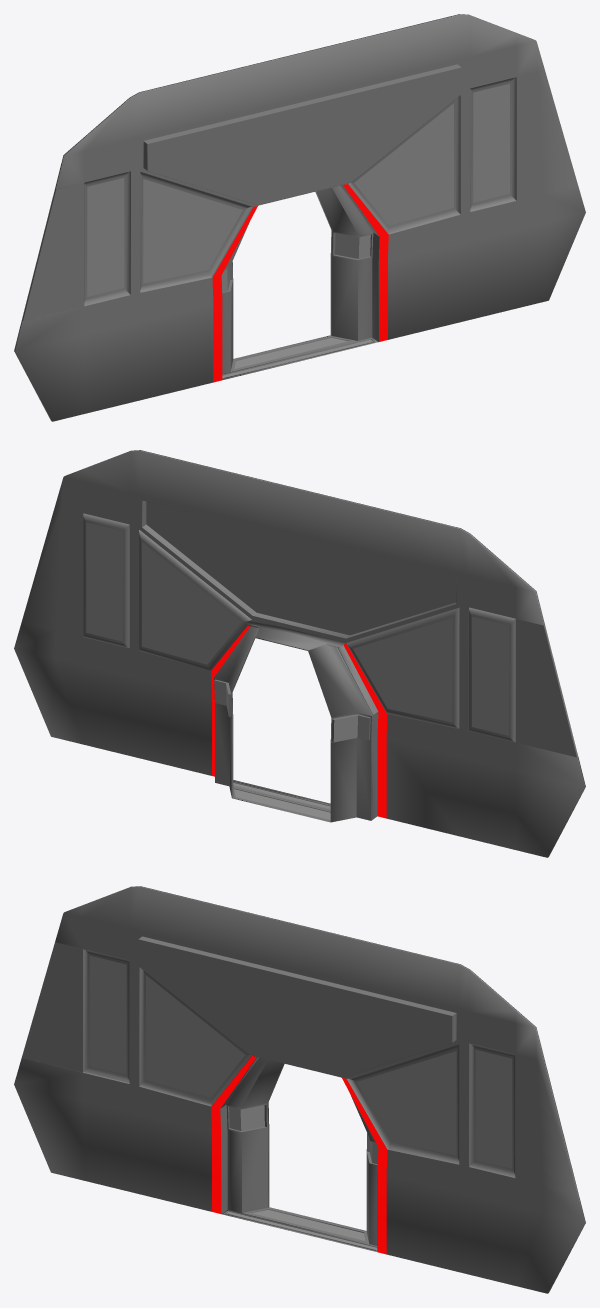
Rendered from door.fbx.
The picture shows the model from 3 angles, top to bottom: view 1: azimuth 30°, elevation 25°; view 2: azimuth 150°, elevation 25°; view 3: azimuth 330°, elevation 25°; orthographic projection.
Visible parts, largest first — view 1: Door_2; view 2: Door_2; view 3: Door_2.
Boxes of the visible parts, x1=… form: Door_2: x1=14, y1=14, x2=585, y2=421; Door_2: x1=14, y1=450, x2=585, y2=857; Door_2: x1=14, y1=886, x2=585, y2=1293.
Size of the model in its own units: 888 by 458 by 62.83.
